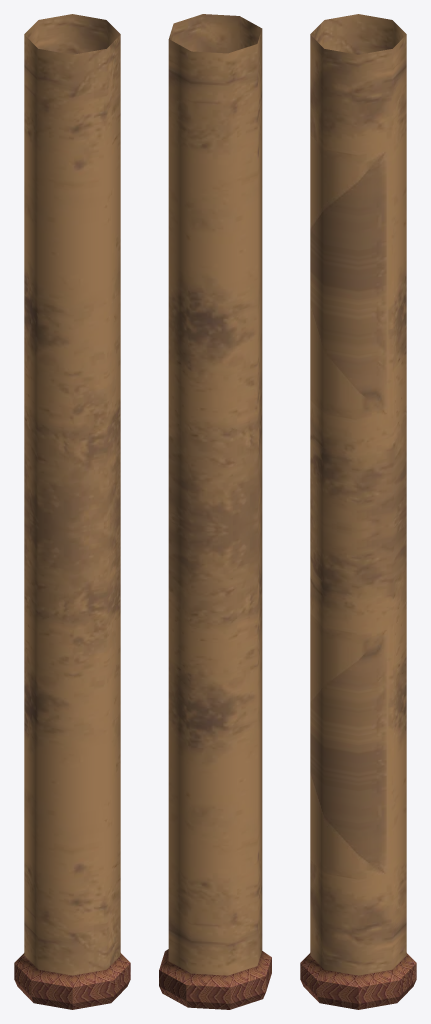
The model's file is pipe-01-art.glb.
3 renders of one model, left to right at view 1: azimuth 90°, elevation 25°; view 2: azimuth 150°, elevation 25°; view 3: azimuth 270°, elevation 25°, orthographic.
Visible parts, largest first — view 1: Pipe_01_Art; view 2: Pipe_01_Art; view 3: Pipe_01_Art.
Boxes of the visible parts, bbox=[...] form: Pipe_01_Art: bbox=[14, 14, 130, 1009]; Pipe_01_Art: bbox=[159, 14, 271, 1009]; Pipe_01_Art: bbox=[300, 14, 416, 1009].
Size of the model in its own units: 1.78 by 16 by 1.78.
2 materials, 2 textured.
